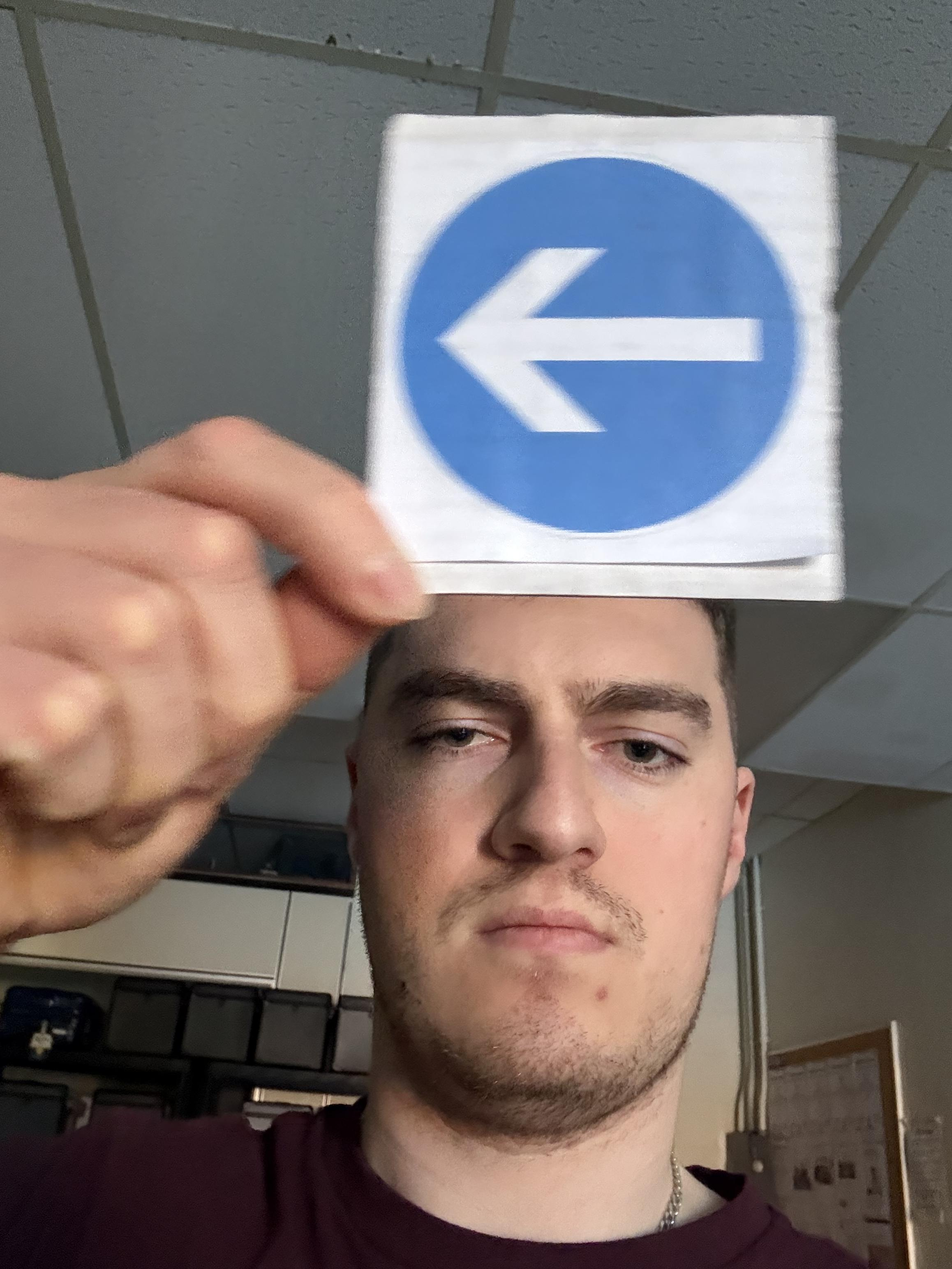Proceed Left: (273, 157, 633, 800)
